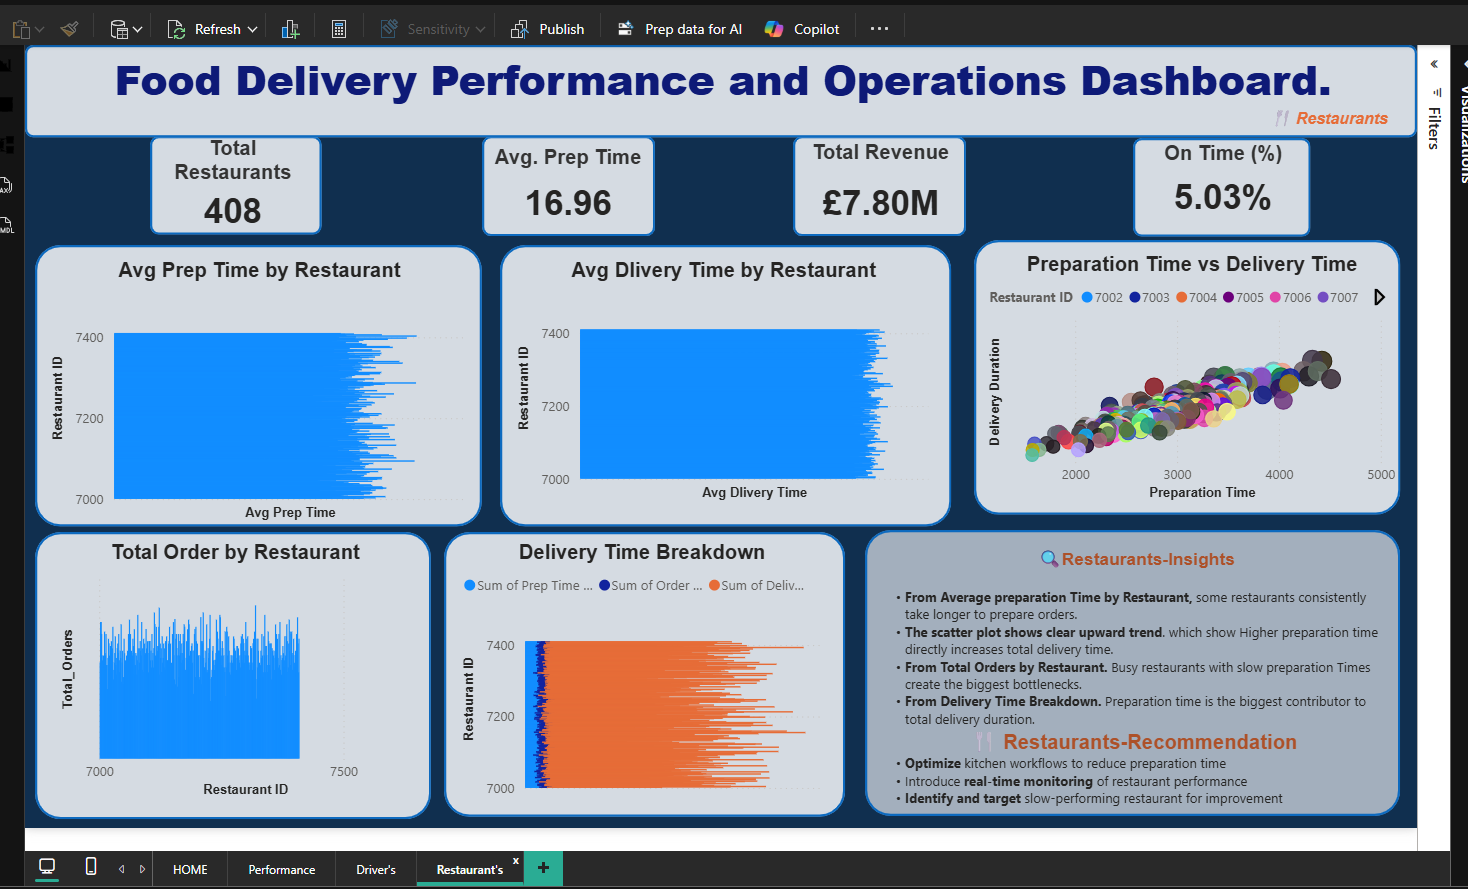

The page's visual inventory and layout, read from the dashboard file:
{"tool":"powerbi","page":{"name":"Restaurant's ","canvas":[1280,720],"ordinal":3},"visuals":[{"type":"shape","box":[872.7,179.2,392.1,252.5],"z":0},{"type":"shape","box":[115.4,83.8,157.9,90.6],"z":1000},{"type":"shape","box":[420.3,83.8,159.3,92],"z":2000},{"type":"shape","box":[705.9,83.8,159.3,92],"z":3000},{"type":"shape","box":[1019.1,85.2,163.4,90.6],"z":4000},{"type":"shape","box":[0,0,1280,84.9],"z":5000},{"type":"shape","box":[9.2,183.9,410.9,258.9],"z":6000},{"type":"shape","box":[9.3,448,364.2,264.1],"z":7000},{"type":"shape","box":[436.6,183.9,415,258.9],"z":8000},{"type":"shape","box":[385.2,448,368.9,261.8],"z":9000},{"type":"shape","box":[772.7,445.7,492.2,263],"z":10000},{"type":"textbox","box":[76.8,0,1138,75.6],"z":11000},{"type":"textbox","box":[1139.2,51.2,140.8,32.6],"z":12000},{"type":"card","title":"Total Restaurants ","fields":{"Values":["Measure.Total Restaurants"]},"box":[115.2,84.9,152.4,91.9],"z":13000},{"type":"card","title":"Avg. Prep Time","fields":{"Values":["Measure.Avg Prep Time"]},"box":[422.4,93.1,154.8,82.6],"z":14000},{"type":"card","title":"On Time (%)","fields":{"Values":["Measure.On-Time %"]},"box":[1036.9,89.3,129.1,78.3],"z":15000},{"type":"card","title":"Total Revenue ","fields":{"Values":["Sum(Food Delivery.Total Revenue)"]},"box":[708.7,88.4,155.9,90.8],"z":16000},{"type":"barChart","title":"Delivery Time Breakdown","fields":{"Category":["Food Delivery.Restaurant ID"],"Y":["Sum(Food Delivery.Prep Time Clean)","Sum(Food Delivery.Order Processing Time Clean)","Sum(Food Delivery.Delivery Travel Time)"]},"box":[398,456.1,338.6,240.9],"z":17000},{"type":"scatterChart","title":"Preparation Time vs Delivery Time","fields":{"X":["Sum(Food Delivery.Prep Time Clean)"],"Y":["Sum(Food Delivery.Delivery Duration Clean)"],"Series":["Food Delivery.Restaurant ID"],"Size":["Measure.Total_Orders"]},"box":[882,190.8,382.8,232.7],"z":18000},{"type":"clusteredBarChart","title":"Avg Dlivery Time by Restaurant","fields":{"Category":["Food Delivery.Restaurant ID"],"Y":["Measure.Avg Dlivery Time"]},"box":[449.2,196.7,387.5,226.9],"z":19000},{"type":"clusteredBarChart","title":"Avg Prep Time by Restaurant","fields":{"Category":["Food Delivery.Restaurant ID"],"Y":["Measure.Avg Prep Time"]},"box":[19.8,196.7,391,245.5],"z":20000},{"type":"columnChart","title":"Total Order by Restaurant","fields":{"Category":["Food Delivery.Restaurant ID"],"Y":["Measure.Total_Orders"]},"box":[29.1,456.1,328.1,240.9],"z":21000},{"type":"textbox","box":[785.9,456.1,471.5,252.7],"z":22000}]}

Visuals, with their boxes on the page's 1280x720 design canvas (x1, y1, x2, y2). These are canvas units, not pixel positions in the 1468x889 screenshot, which may show the page scaled, cropped or inside an application window:
shape: [left=873, top=179, right=1265, bottom=432]
shape: [left=115, top=84, right=273, bottom=174]
shape: [left=420, top=84, right=580, bottom=176]
shape: [left=706, top=84, right=865, bottom=176]
shape: [left=1019, top=85, right=1182, bottom=176]
shape: [left=0, top=0, right=1280, bottom=85]
shape: [left=9, top=184, right=420, bottom=443]
shape: [left=9, top=448, right=374, bottom=712]
shape: [left=437, top=184, right=852, bottom=443]
shape: [left=385, top=448, right=754, bottom=710]
shape: [left=773, top=446, right=1265, bottom=709]
textbox: [left=77, top=0, right=1215, bottom=76]
textbox: [left=1139, top=51, right=1280, bottom=84]
"Total Restaurants " card: [left=115, top=85, right=268, bottom=177]
"Avg. Prep Time" card: [left=422, top=93, right=577, bottom=176]
"On Time (%)" card: [left=1037, top=89, right=1166, bottom=168]
"Total Revenue " card: [left=709, top=88, right=865, bottom=179]
"Delivery Time Breakdown" barChart: [left=398, top=456, right=737, bottom=697]
"Preparation Time vs Delivery Time" scatterChart: [left=882, top=191, right=1265, bottom=424]
"Avg Dlivery Time by Restaurant" clusteredBarChart: [left=449, top=197, right=837, bottom=424]
"Avg Prep Time by Restaurant" clusteredBarChart: [left=20, top=197, right=411, bottom=442]
"Total Order by Restaurant" columnChart: [left=29, top=456, right=357, bottom=697]
textbox: [left=786, top=456, right=1257, bottom=709]
